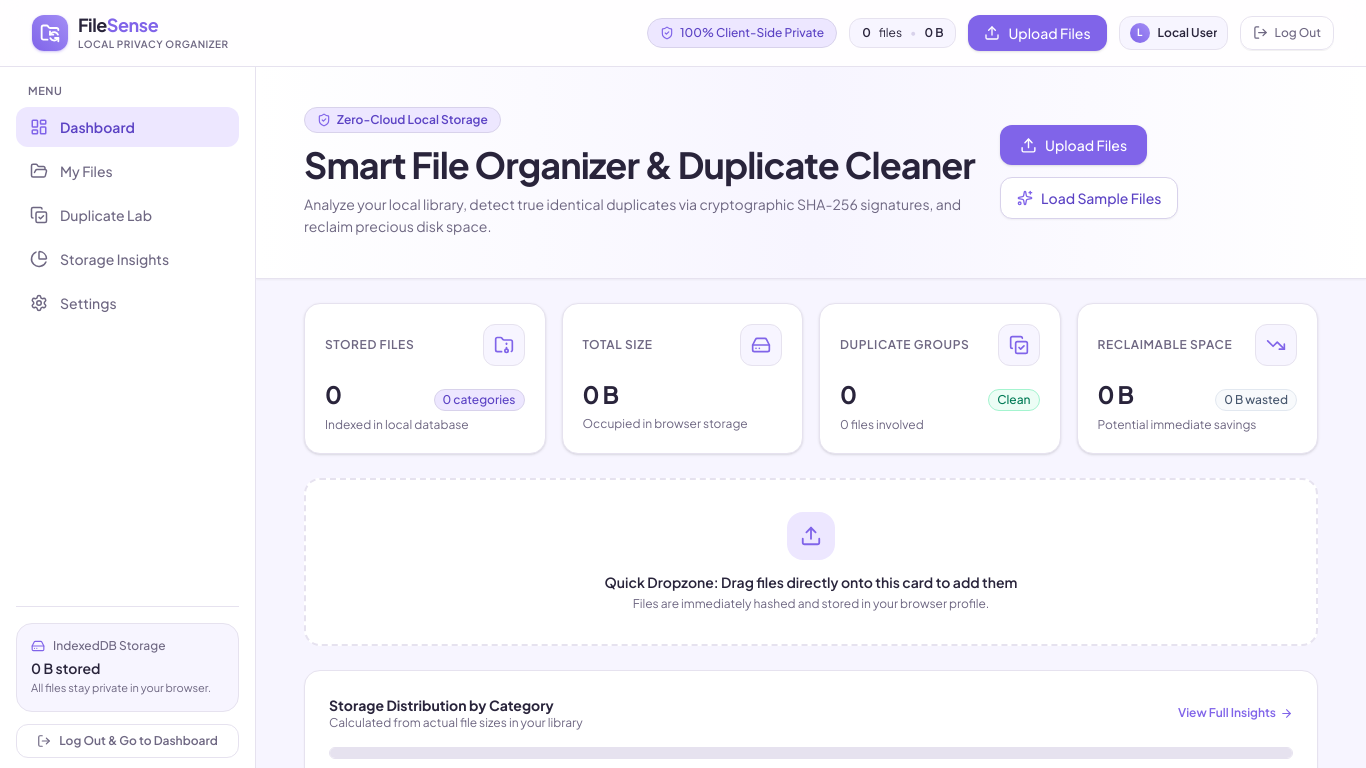
User Interactions and App Integration › opens and closes the file upload modal
The image size is (1366, 768).
Expected: the heading "Smart File Organizer & Duplicate Cleaner" is shown, [304,144,976,184]
Click the button "Upload Files" in the row of "Local User": (1038, 33) [968,15,1107,51]
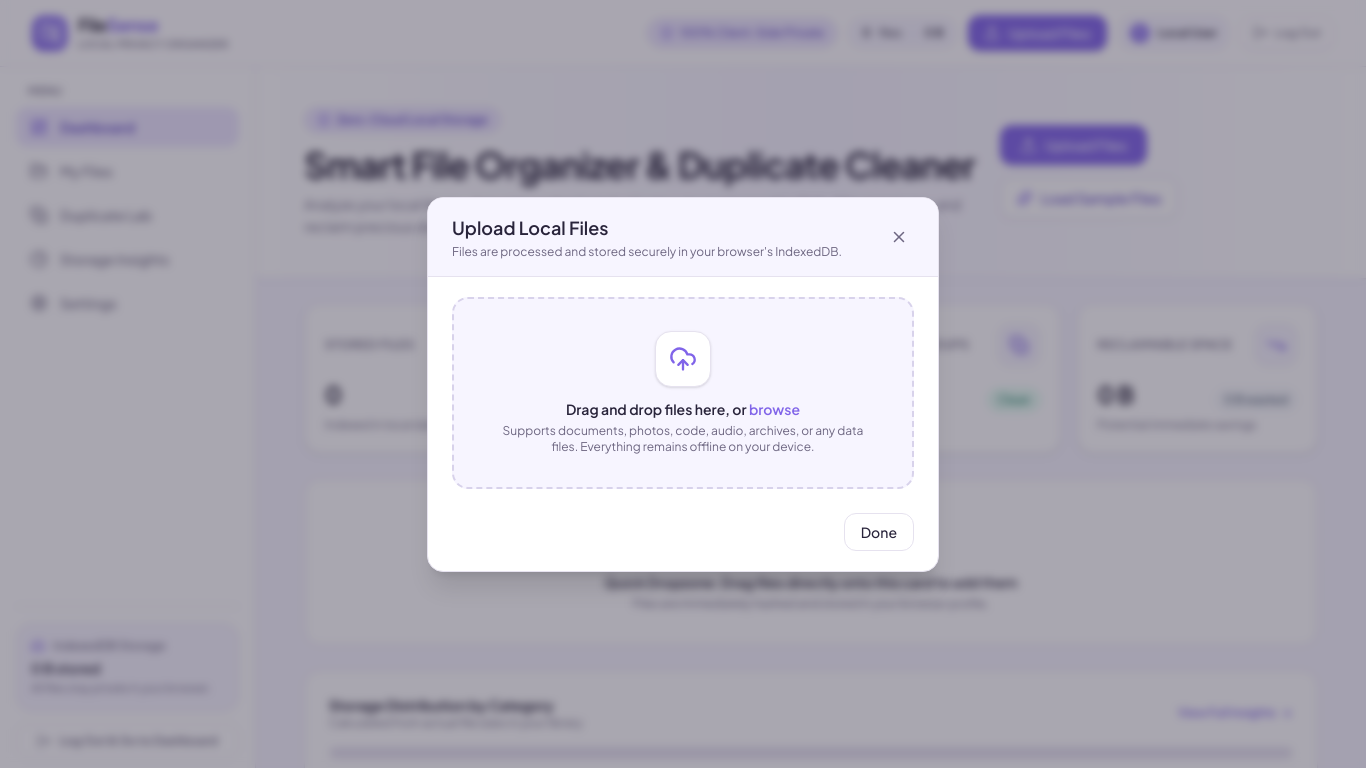
Now the heading "Upload Local Files" is shown, box [452,216,608,238]
Now the text "Drag and drop files here, or browse" is shown, box [566,398,800,418]
Click the button "Done": (879, 532) [844,512,914,550]
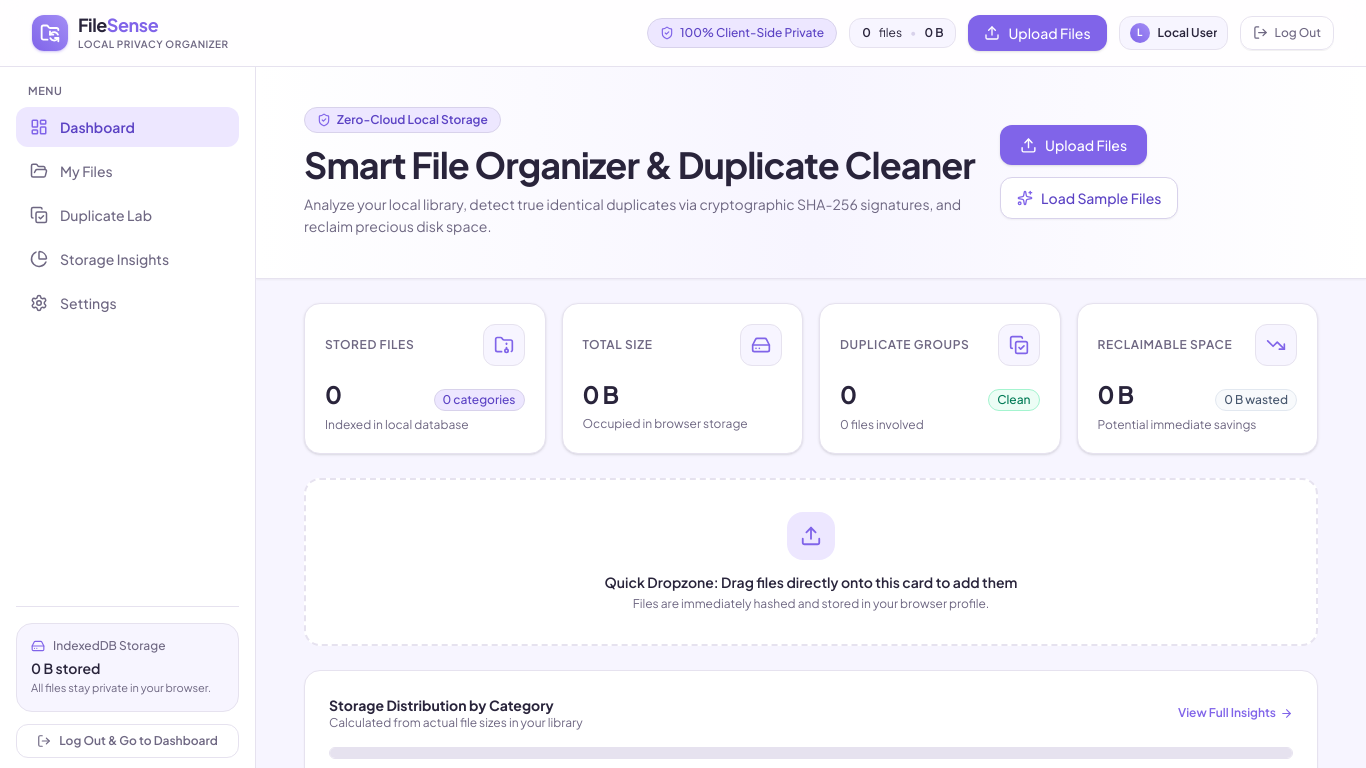
Now the heading "Upload Local Files" is gone
